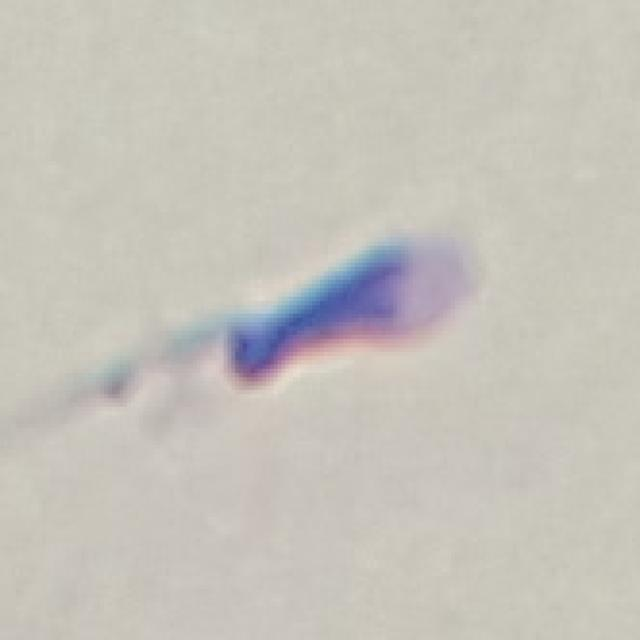abnormal sperm: (10, 205, 508, 453)
